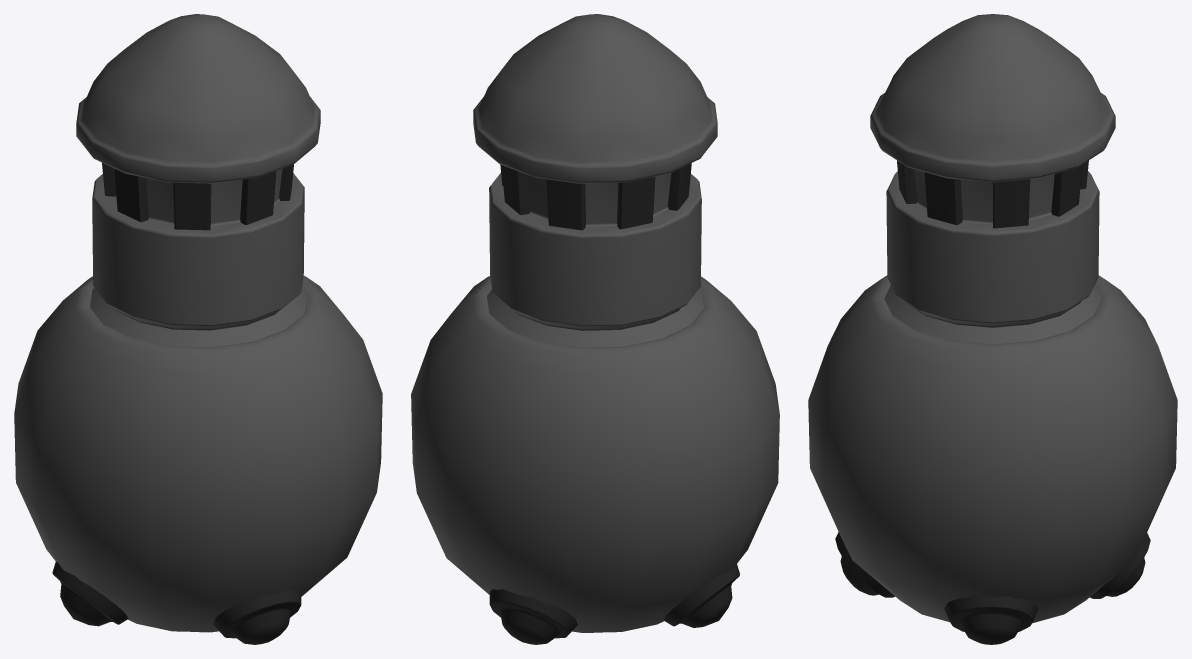
File: _Grenade_03.fbx
The picture shows the model from 3 angles, left to right: view 1: azimuth 30°, elevation 25°; view 2: azimuth 150°, elevation 25°; view 3: azimuth 270°, elevation 25°; orthographic projection.
Parts seen in each view (by area): view 1: Grenade_03; view 2: Grenade_03; view 3: Grenade_03.
Part boxes in pixels (box(x1,y1,x2,y2)): Grenade_03: box(14, 14, 382, 644); Grenade_03: box(411, 14, 779, 644); Grenade_03: box(808, 14, 1177, 644).
Size of the model in its own units: 60 by 104 by 60.
1 material, 1 textured.
